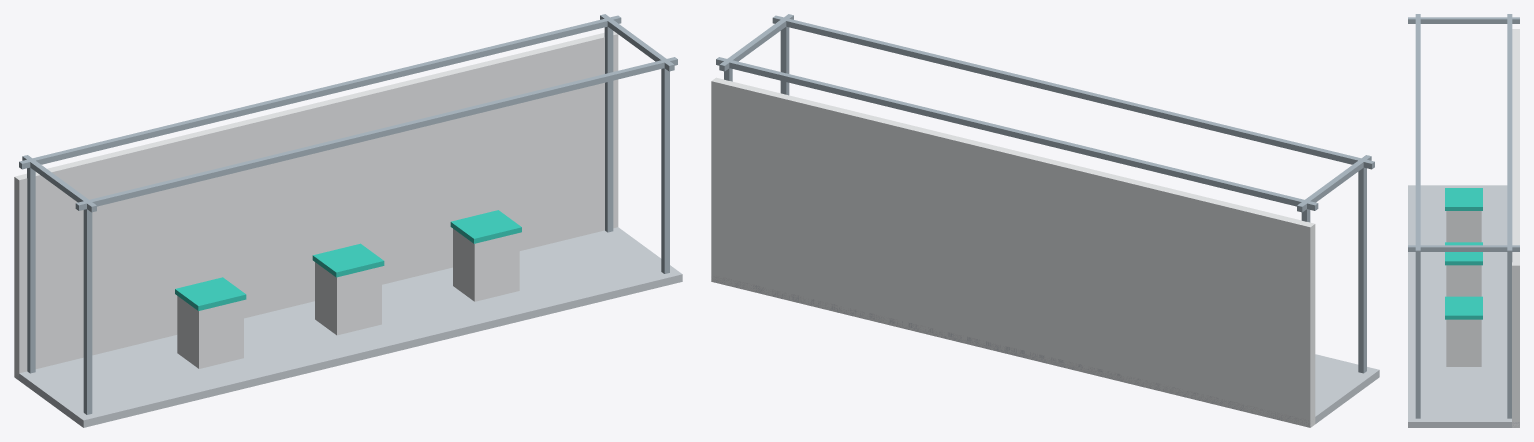
3 renders of one model, left to right at view 1: azimuth 30°, elevation 25°; view 2: azimuth 150°, elevation 25°; view 3: azimuth 270°, elevation 25°, orthographic. The views are drawn at different scales.
Parts seen in each view (by area): view 1: Exhibition Booth Concept; view 2: Exhibition Booth Concept; view 3: Exhibition Booth Concept.
Boxes of the visible parts, x1,y1,x2,y2 form: Exhibition Booth Concept: (14, 14, 682, 427); Exhibition Booth Concept: (711, 14, 1379, 427); Exhibition Booth Concept: (1408, 14, 1519, 427).
Bounding box in the file's own units: 10 × 3.49 × 2.
